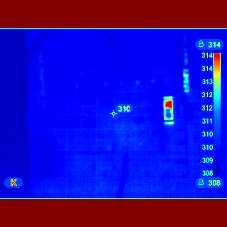Less: (164, 107, 174, 121)
